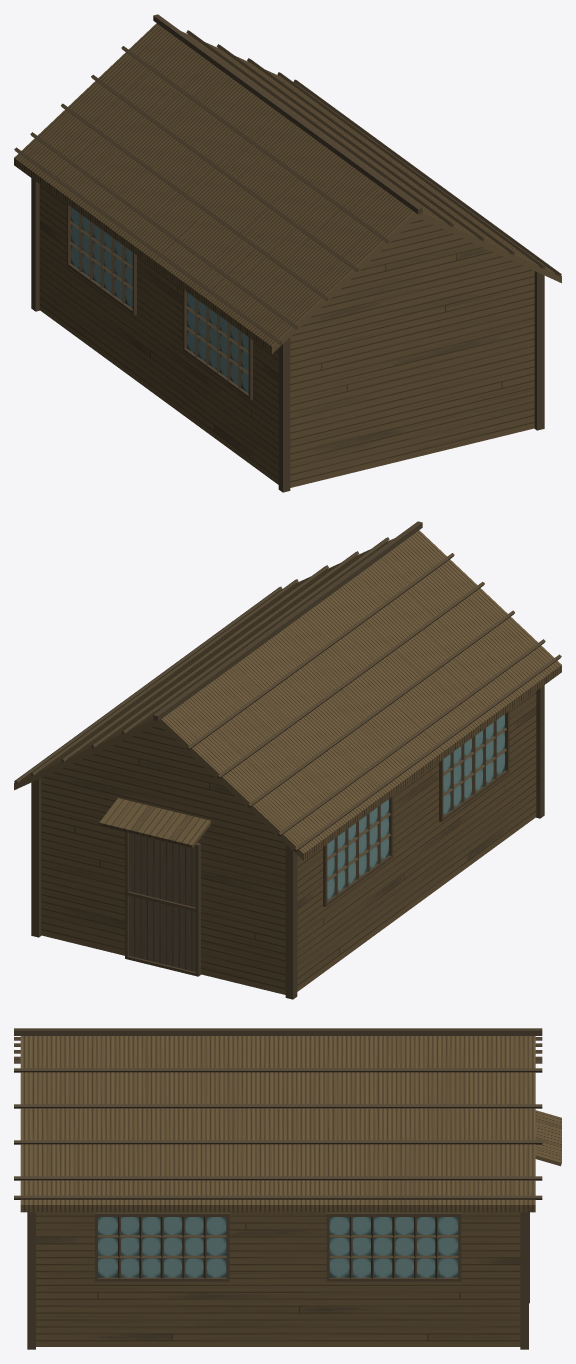
File: prison_building.glb
3 views of the same model, one above another, from view 1: azimuth 30°, elevation 25°; view 2: azimuth 150°, elevation 25°; view 3: azimuth 270°, elevation 25° (orthographic).
Parts seen in each view (by area): view 1: 00_chassis_pow_building.mesh; view 2: 00_chassis_pow_building.mesh; view 3: 00_chassis_pow_building.mesh.
Part boxes in pixels (left/top/right/bottom): 00_chassis_pow_building.mesh: left=14, top=14, right=561, bottom=492; 00_chassis_pow_building.mesh: left=14, top=521, right=561, bottom=999; 00_chassis_pow_building.mesh: left=14, top=1028, right=561, bottom=1349.
Bounding box in the file's own units: 4.97 × 4.21 × 8.16.
1 material, 1 textured.
